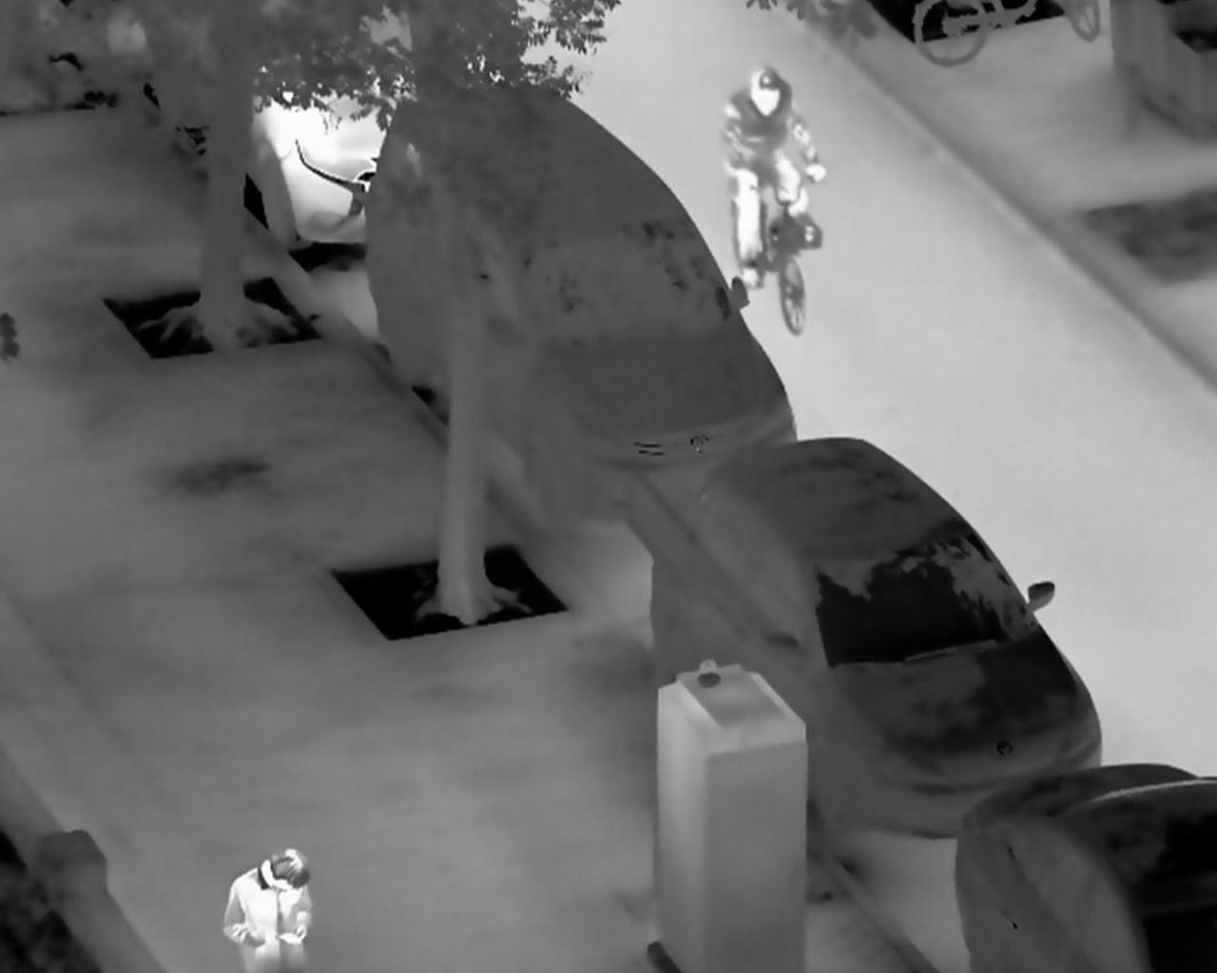person: (723, 67, 823, 294), (223, 849, 317, 973)
